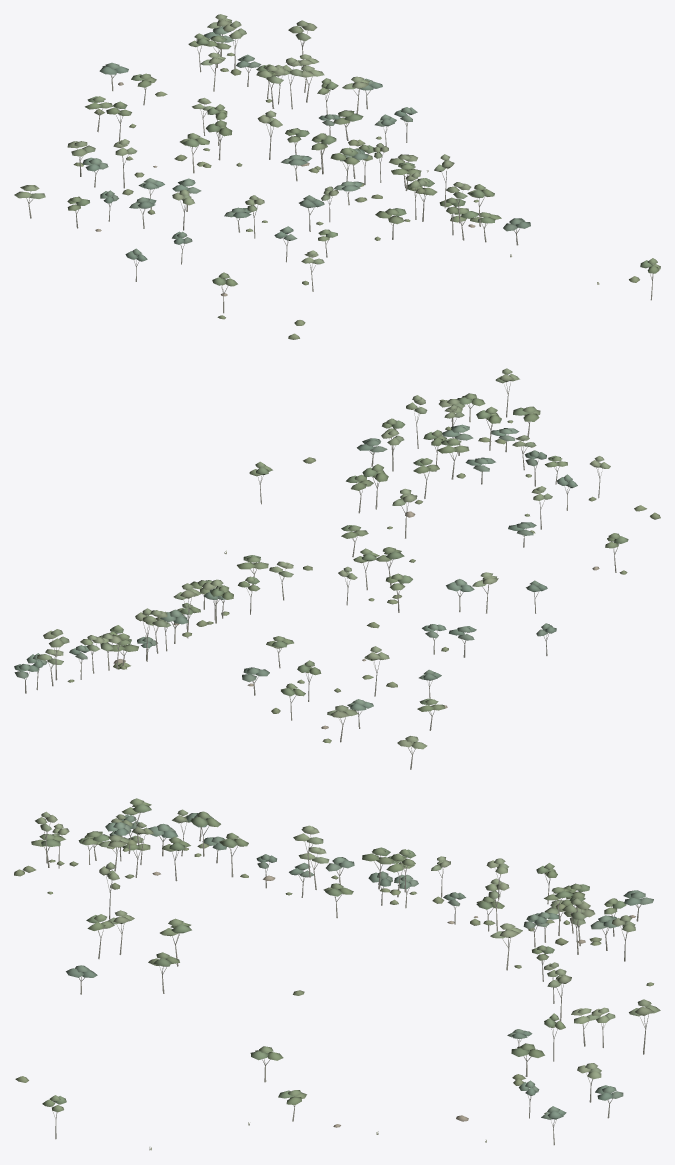
3 renders of one model, top to bottom at view 1: azimuth 30°, elevation 25°; view 2: azimuth 150°, elevation 25°; view 3: azimuth 270°, elevation 25°, orthographic. The views are drawn at different scales.
Parts seen in each view (by area): view 1: Stage2 Vegetation Sector 05; view 2: Stage2 Vegetation Sector 05; view 3: Stage2 Vegetation Sector 05.
Boxes of the visible parts, left/top/right/bottom form: Stage2 Vegetation Sector 05: left=14, top=14, right=660, bottom=339; Stage2 Vegetation Sector 05: left=14, top=368, right=660, bottom=769; Stage2 Vegetation Sector 05: left=14, top=798, right=660, bottom=1150.
Size of the model in its own units: 140 by 65.54 by 176.
